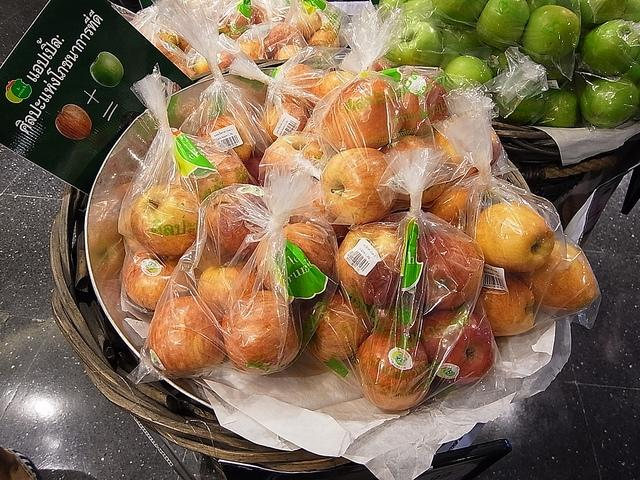apple: (353, 328, 432, 411), (222, 290, 300, 374), (510, 242, 599, 314), (320, 147, 398, 225), (471, 202, 555, 274), (322, 77, 404, 150), (147, 296, 226, 371), (420, 309, 494, 386), (416, 233, 484, 309), (132, 184, 200, 256), (306, 293, 372, 362), (204, 190, 268, 260), (198, 259, 268, 315), (522, 4, 581, 64), (123, 251, 181, 311), (582, 20, 638, 76), (482, 277, 534, 337), (580, 76, 640, 128), (188, 154, 250, 202), (284, 223, 334, 278), (434, 126, 501, 166), (196, 116, 252, 163), (477, 0, 530, 49), (391, 21, 447, 67), (530, 84, 582, 128), (265, 135, 324, 169), (426, 185, 474, 224), (262, 102, 311, 140), (494, 90, 550, 123), (565, 0, 628, 29), (312, 70, 356, 108), (432, 0, 488, 28), (440, 22, 486, 56), (444, 55, 492, 87), (263, 23, 305, 59), (56, 104, 92, 140), (90, 51, 124, 87), (284, 65, 322, 93), (621, 51, 640, 89), (298, 12, 322, 38), (240, 36, 261, 60), (311, 30, 340, 47), (244, 158, 262, 184), (11, 78, 32, 100), (274, 45, 303, 60), (216, 50, 236, 70), (251, 5, 268, 25), (193, 57, 210, 75), (6, 86, 23, 103), (178, 35, 188, 52)
